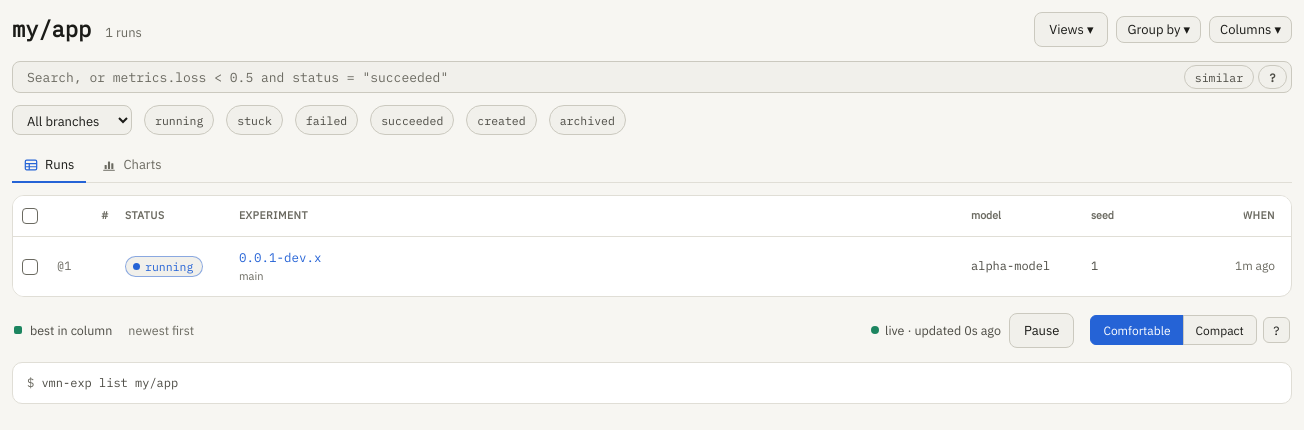
Leaderboard params › keeps a hidden param column hidden across polls
expect the text "alpha-model" is shown: met, box [961,237,1081,296]
Click the button titled "Columns": click(1251, 30) [1209,16,1292,43]
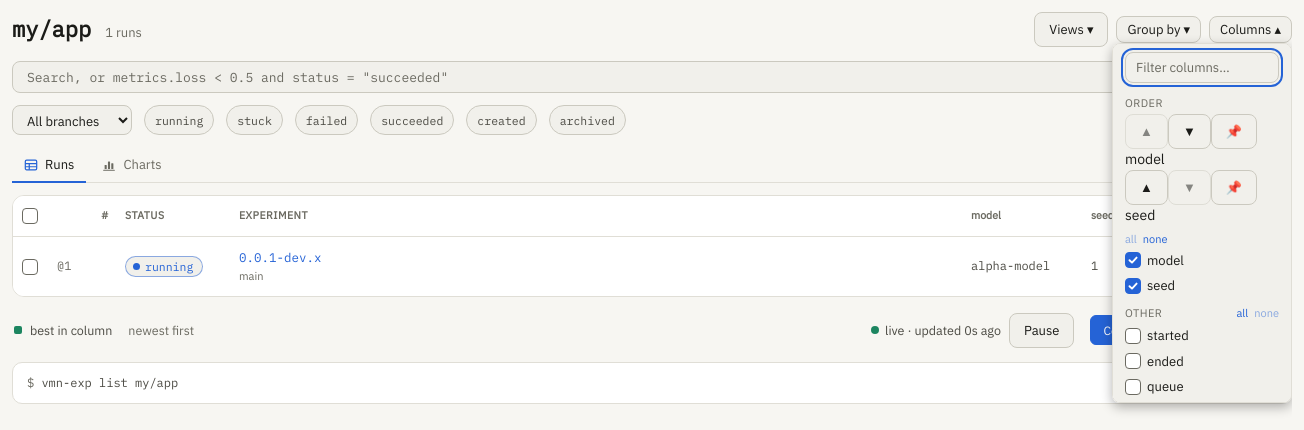
Click the checkbox labelled "model": click(1133, 260) [1125,252,1141,268]
Wait 16000 ms
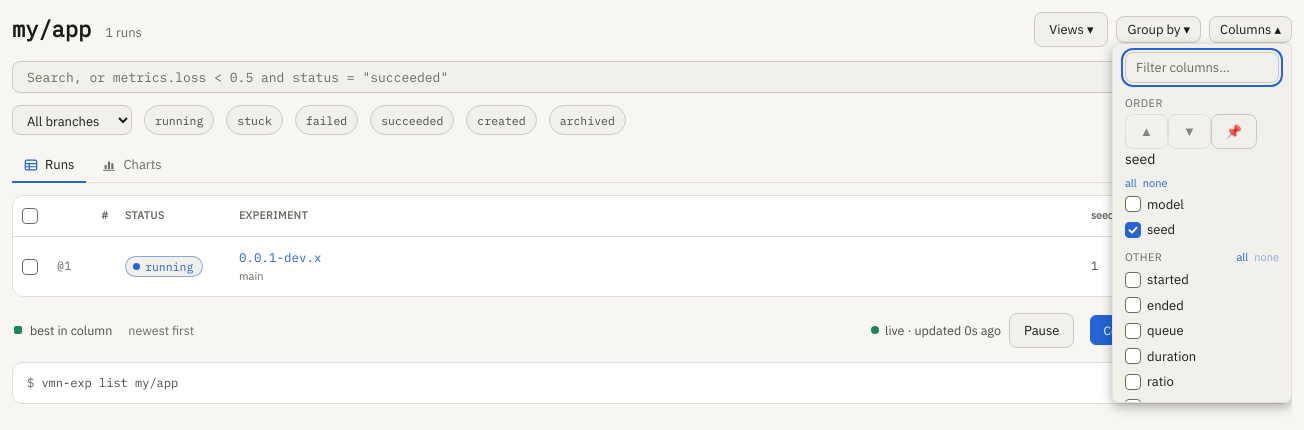
expect the text "alpha-model" is gone: met
